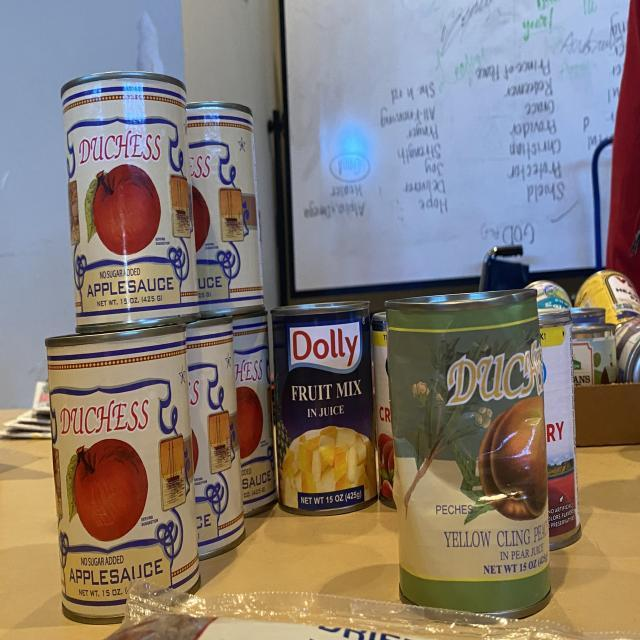Canned Food: (386, 290, 550, 615), (46, 325, 199, 623), (61, 72, 199, 332), (272, 302, 378, 515), (186, 102, 264, 315), (186, 317, 245, 560), (539, 308, 581, 550), (232, 310, 276, 515), (371, 312, 395, 507), (570, 307, 618, 385), (575, 270, 640, 325), (615, 318, 640, 383), (526, 280, 571, 310)
